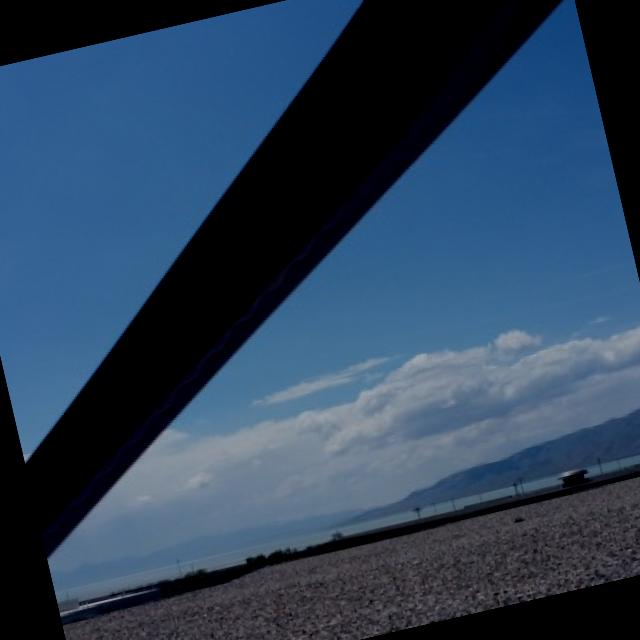healthy: (63, 479, 640, 640)
